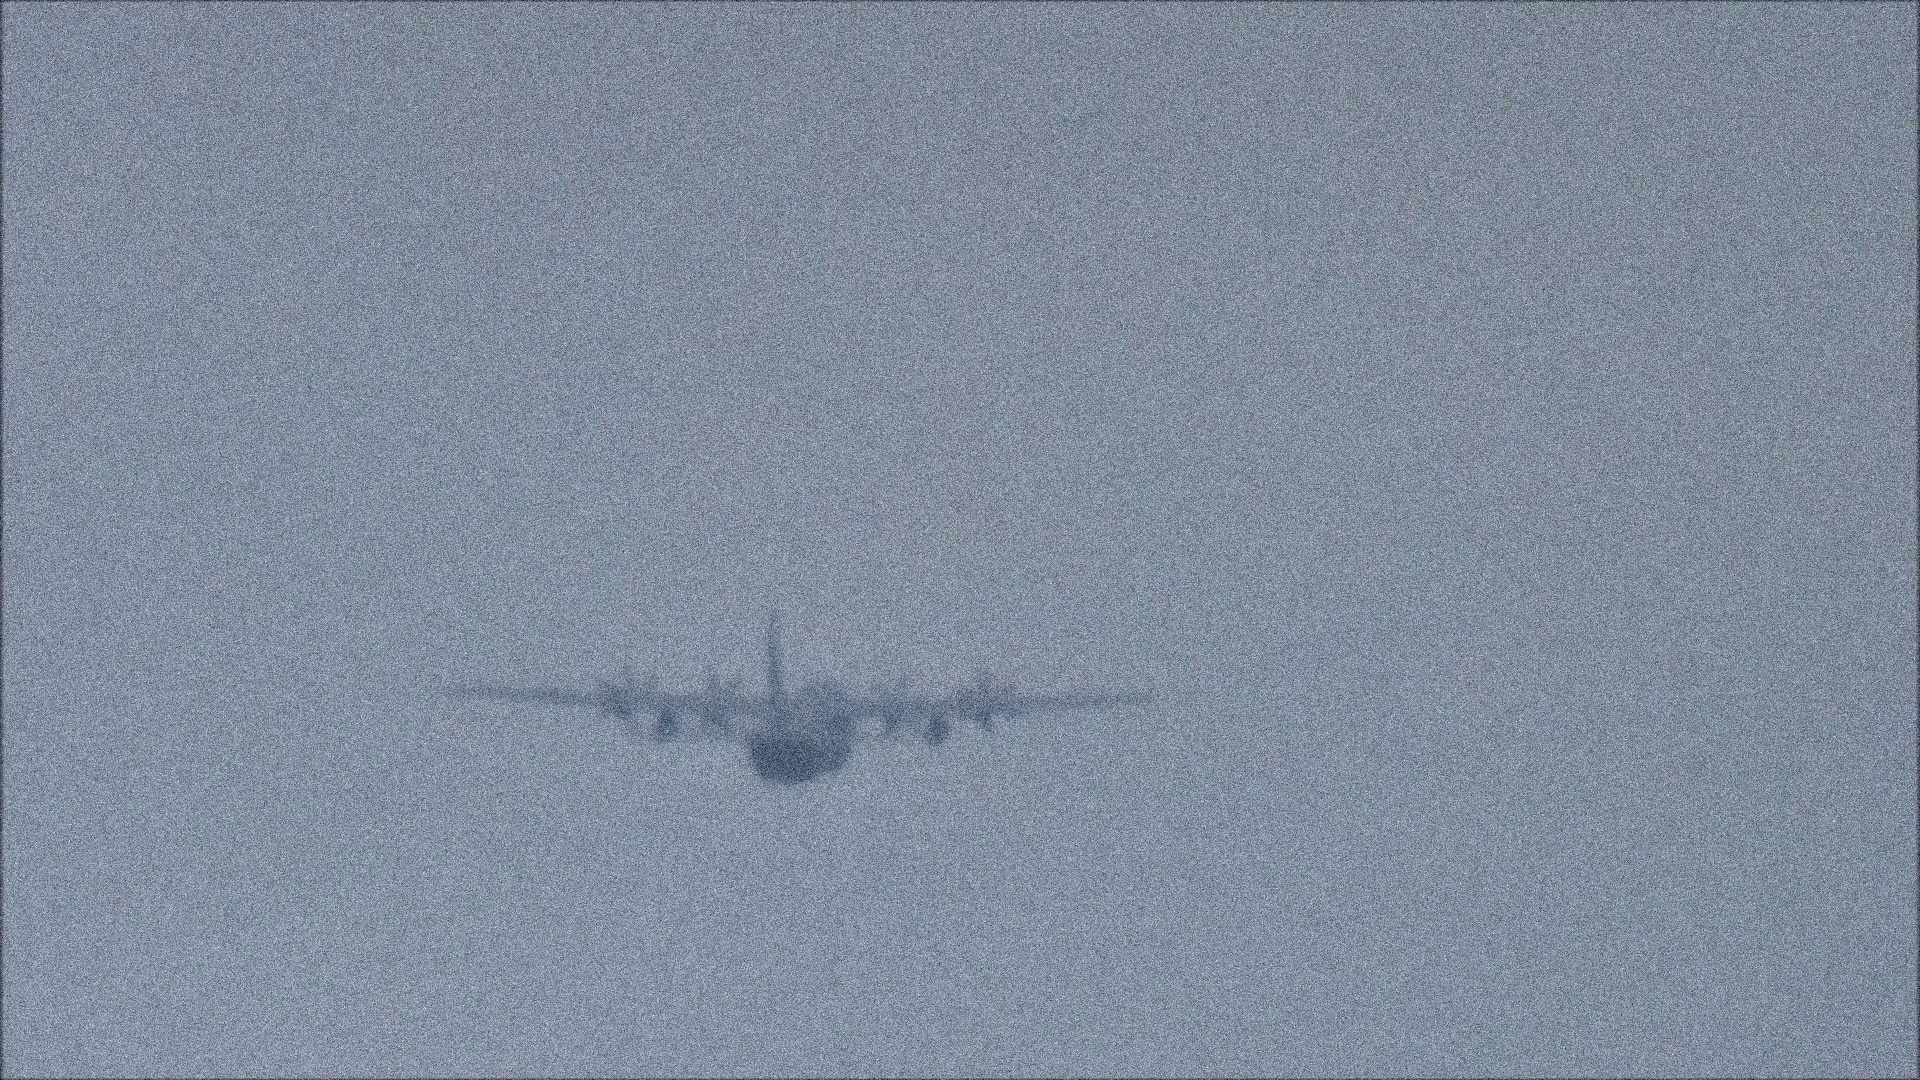Airplane: (456, 626, 1146, 775)
